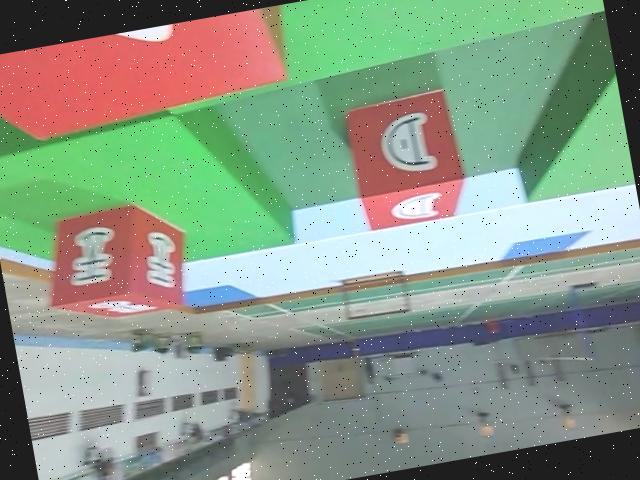R2 Real: (34, 194, 196, 332), (339, 87, 472, 235)
